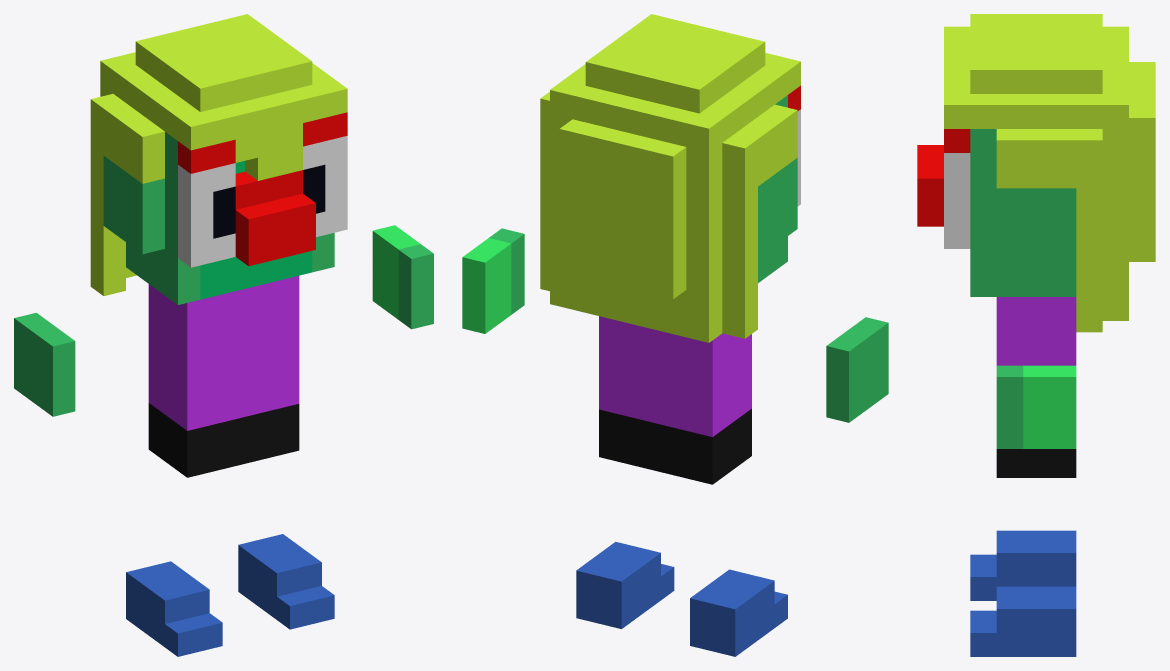
The model's file is gglive_character_test.obj.
3 views of the same model, side by side, from view 1: azimuth 30°, elevation 25°; view 2: azimuth 150°, elevation 25°; view 3: azimuth 270°, elevation 25° (orthographic). The views are drawn at different scales.
Size of the model in its own units: 17 by 24 by 9.
Materials: 1 (1 with a texture image).
